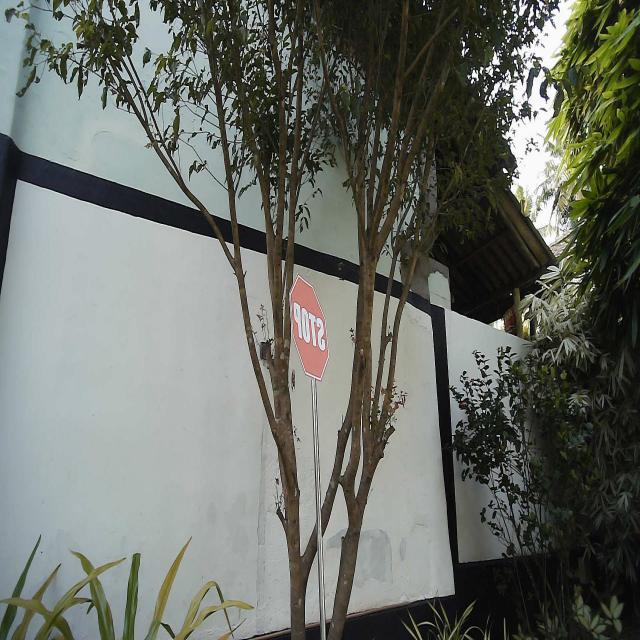stop: (288, 272, 330, 384)
